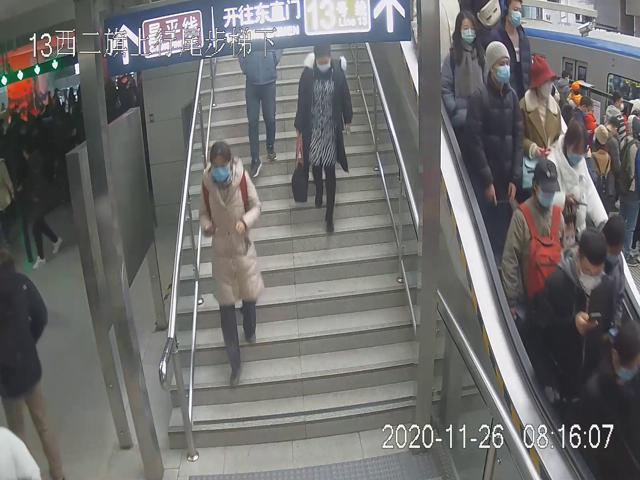person: (527, 223, 614, 420), (196, 136, 263, 388), (464, 39, 522, 243), (293, 44, 353, 237), (499, 160, 566, 318), (440, 9, 485, 136)
